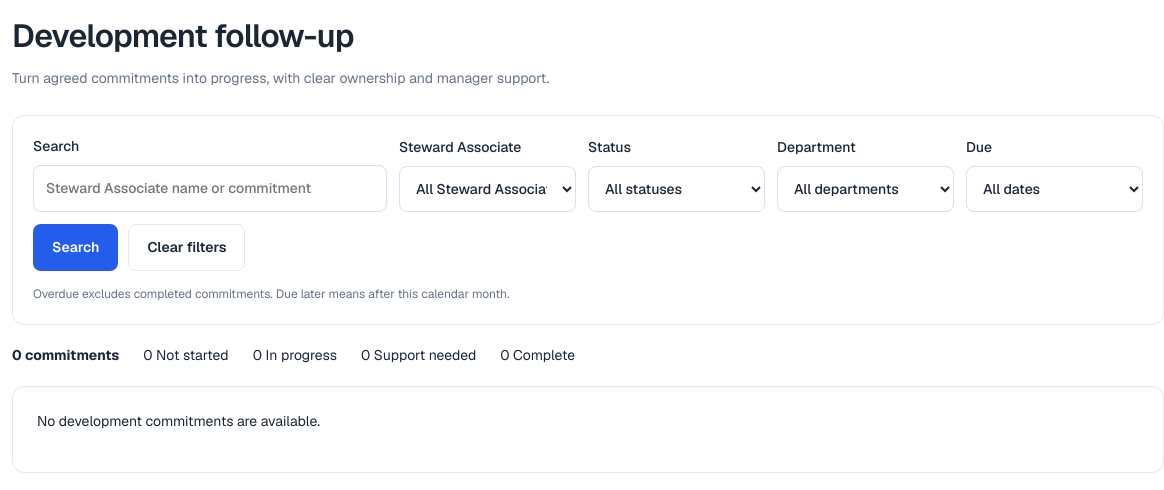
Test: shows the appropriate status empty state
The image size is (1164, 490).
Expected: the text "No development commitments are available." is shown, x1=37 y1=412 x2=320 y2=430
Select "Complete" in the dropdown labelled "Status": (676, 189) x1=588 y1=166 x2=765 y2=212
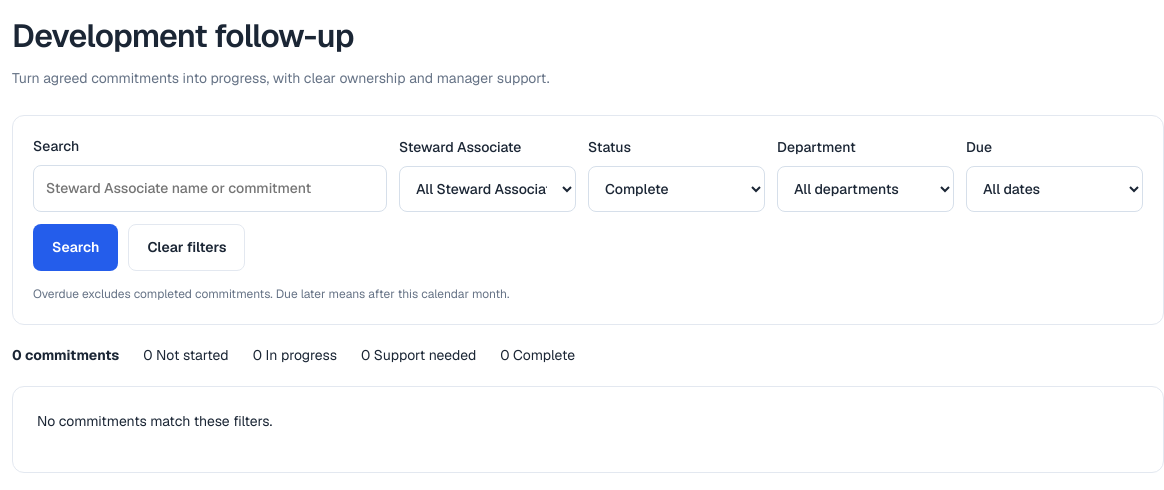
Expected: the text "No commitments match these filters." is shown, x1=37 y1=412 x2=272 y2=430
